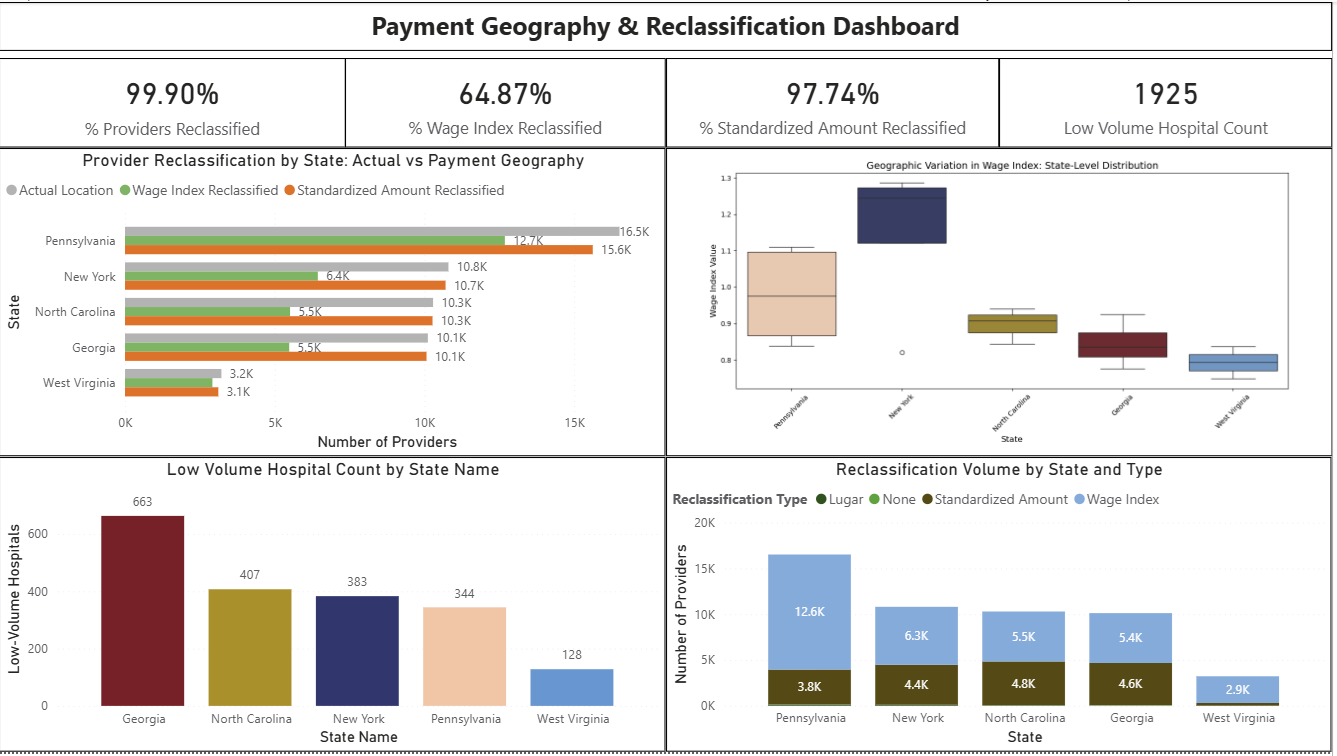

The page's visual inventory and layout, read from the dashboard file:
{"tool":"powerbi","page":{"name":"Page 4","canvas":[1280,720],"ordinal":3},"visuals":[{"type":"textbox","box":[0,0,1280,47],"z":0},{"type":"card","fields":{"Values":["All_Measures.% Providers Reclassified"]},"box":[0,54,333,86],"z":1000},{"type":"card","fields":{"Values":["All_Measures.% Wage Index Reclassified"]},"box":[332.6,54.2,307.9,85.5],"z":2000},{"type":"card","fields":{"Values":["All_Measures.% Standardized Amount Reclassified"]},"box":[640.5,54.2,320.2,85.5],"z":3000},{"type":"card","fields":{"Values":["All_Measures.Low Volume Hospital Count"]},"box":[959.8,54.2,320.2,85.5],"z":4000},{"type":"clusteredBarChart","title":"Provider Reclassification by State: Actual vs Payment Geography","fields":{"Category":["State Refrence Data.State Name"],"Y":["All_Measures.Actual Location Count","All_Measures.Wage Index Reclassified Count","All_Measures.Standardized Amount Reclassified Count"]},"box":[0,140.6,640.5,296.5],"z":5000},{"type":"columnChart","title":"Reclassification Volume by State and Type","fields":{"Category":["State Refrence Data.State Name"],"Y":["CountNonNull(provider_specific_file.providerType)"],"Series":["provider_specific_file.Reclassification Type"]},"box":[640.5,437.1,638.6,283.2],"z":6000},{"type":"pythonVisual","fields":{"Values":["provider_specific_file.specialWageIndex","State Refrence Data.State Name"]},"box":[640.5,140.6,639.5,296.5],"z":7000},{"type":"columnChart","fields":{"Category":["State Refrence Data.State Name"],"Y":["All_Measures.Low Volume Hospital Count"]},"box":[0,437,640,283],"z":8000}]}

Visuals, with their boxes in screenshot pixels (x1, y1, x2, y2), scaled from the page's 1280x720 canvas onto the 1337x756 screenshot:
textbox: 0 0 1336 49
card - All_Measures.% Providers Reclassified: 0 57 348 147
card - All_Measures.% Wage Index Reclassified: 347 57 669 147
card - All_Measures.% Standardized Amount Reclassified: 669 57 1003 147
card - All_Measures.Low Volume Hospital Count: 1003 57 1336 147
"Provider Reclassification by State: Actual vs Payment Geography" clusteredBarChart: 0 148 669 459
"Reclassification Volume by State and Type" columnChart: 669 459 1336 755
pythonVisual - provider_specific_file.specialWageIndex x State Refrence Data.State Name: 669 148 1336 459
columnChart - State Refrence Data.State Name x All_Measures.Low Volume Hospital Count: 0 459 668 755
